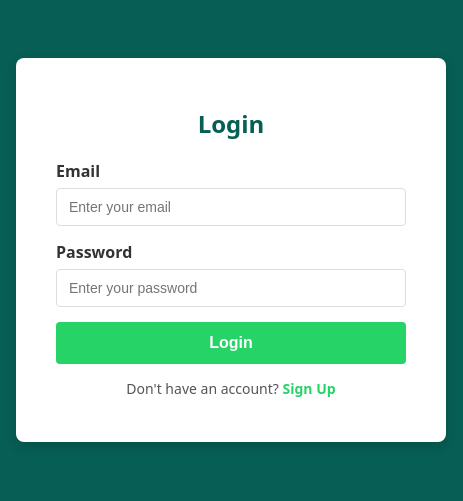
Test case: Auth Component › toggles to signup form
The width and height of the screenshot is (463, 501).
Click the text "Sign Up" at (309, 389), box [282,380,336,398]
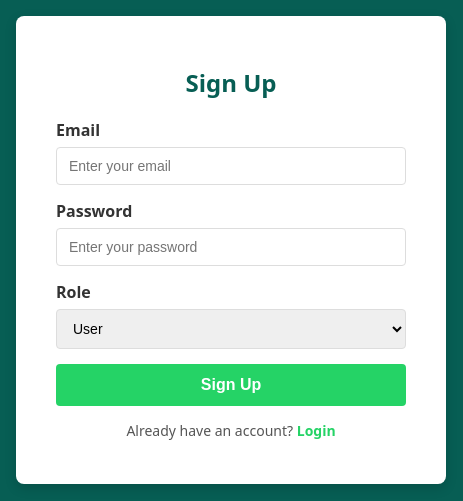
Check: the field labelled "Email" is shown, box [56,147,406,185]
Check: the heading "Sign Up" is shown, box [186,66,277,99]
